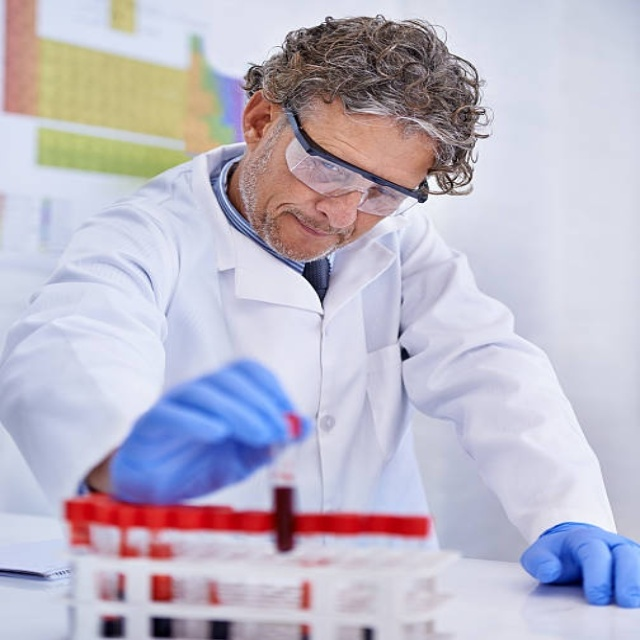Gafas: (282, 109, 430, 214)
Guantes: (106, 354, 313, 507), (521, 522, 640, 610)
Sin_mascara: (276, 204, 345, 253)
